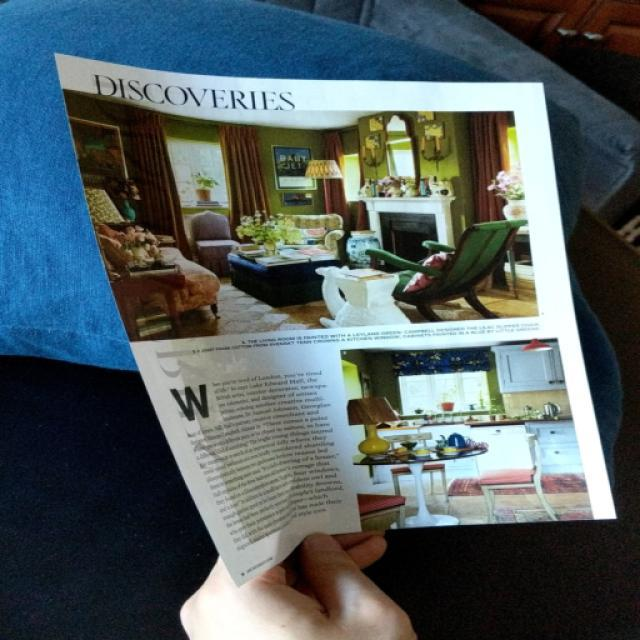document: (57, 55, 615, 584)
